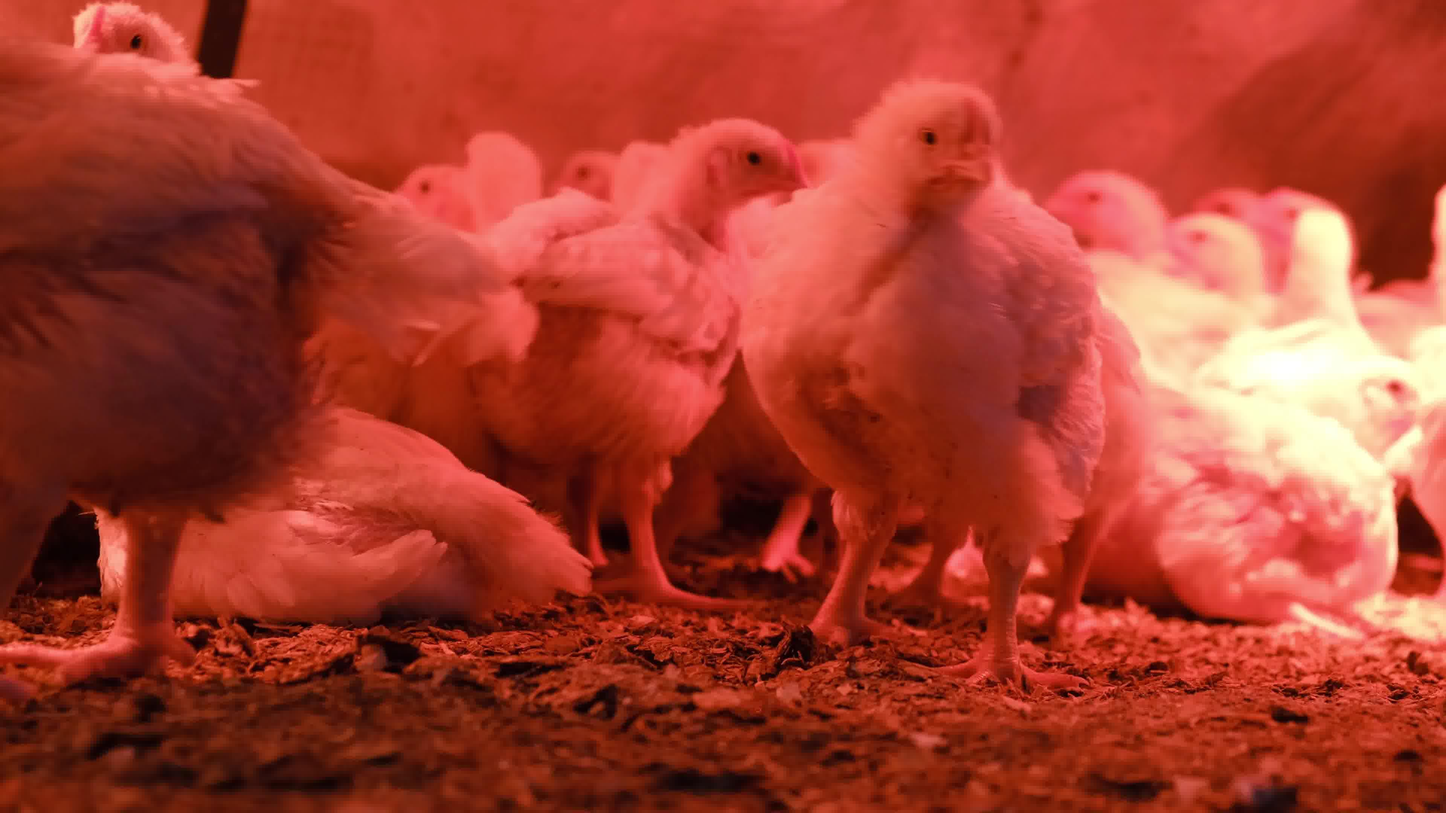AbNormal: (87, 396, 593, 627), (1078, 362, 1444, 620)
Normal: (0, 21, 518, 694), (734, 78, 1104, 700), (451, 119, 818, 614), (1022, 292, 1149, 660), (1038, 164, 1171, 306), (1274, 211, 1376, 386), (68, 0, 215, 82), (459, 125, 546, 262), (1159, 215, 1263, 315), (394, 166, 472, 252), (560, 136, 632, 214), (1266, 183, 1347, 247), (1196, 181, 1263, 235)
